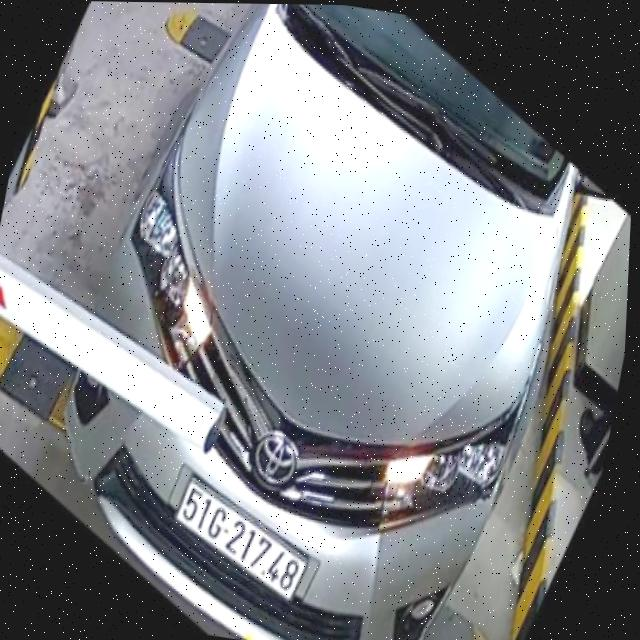car: (29, 1, 637, 640)
plate: (159, 468, 324, 608)
